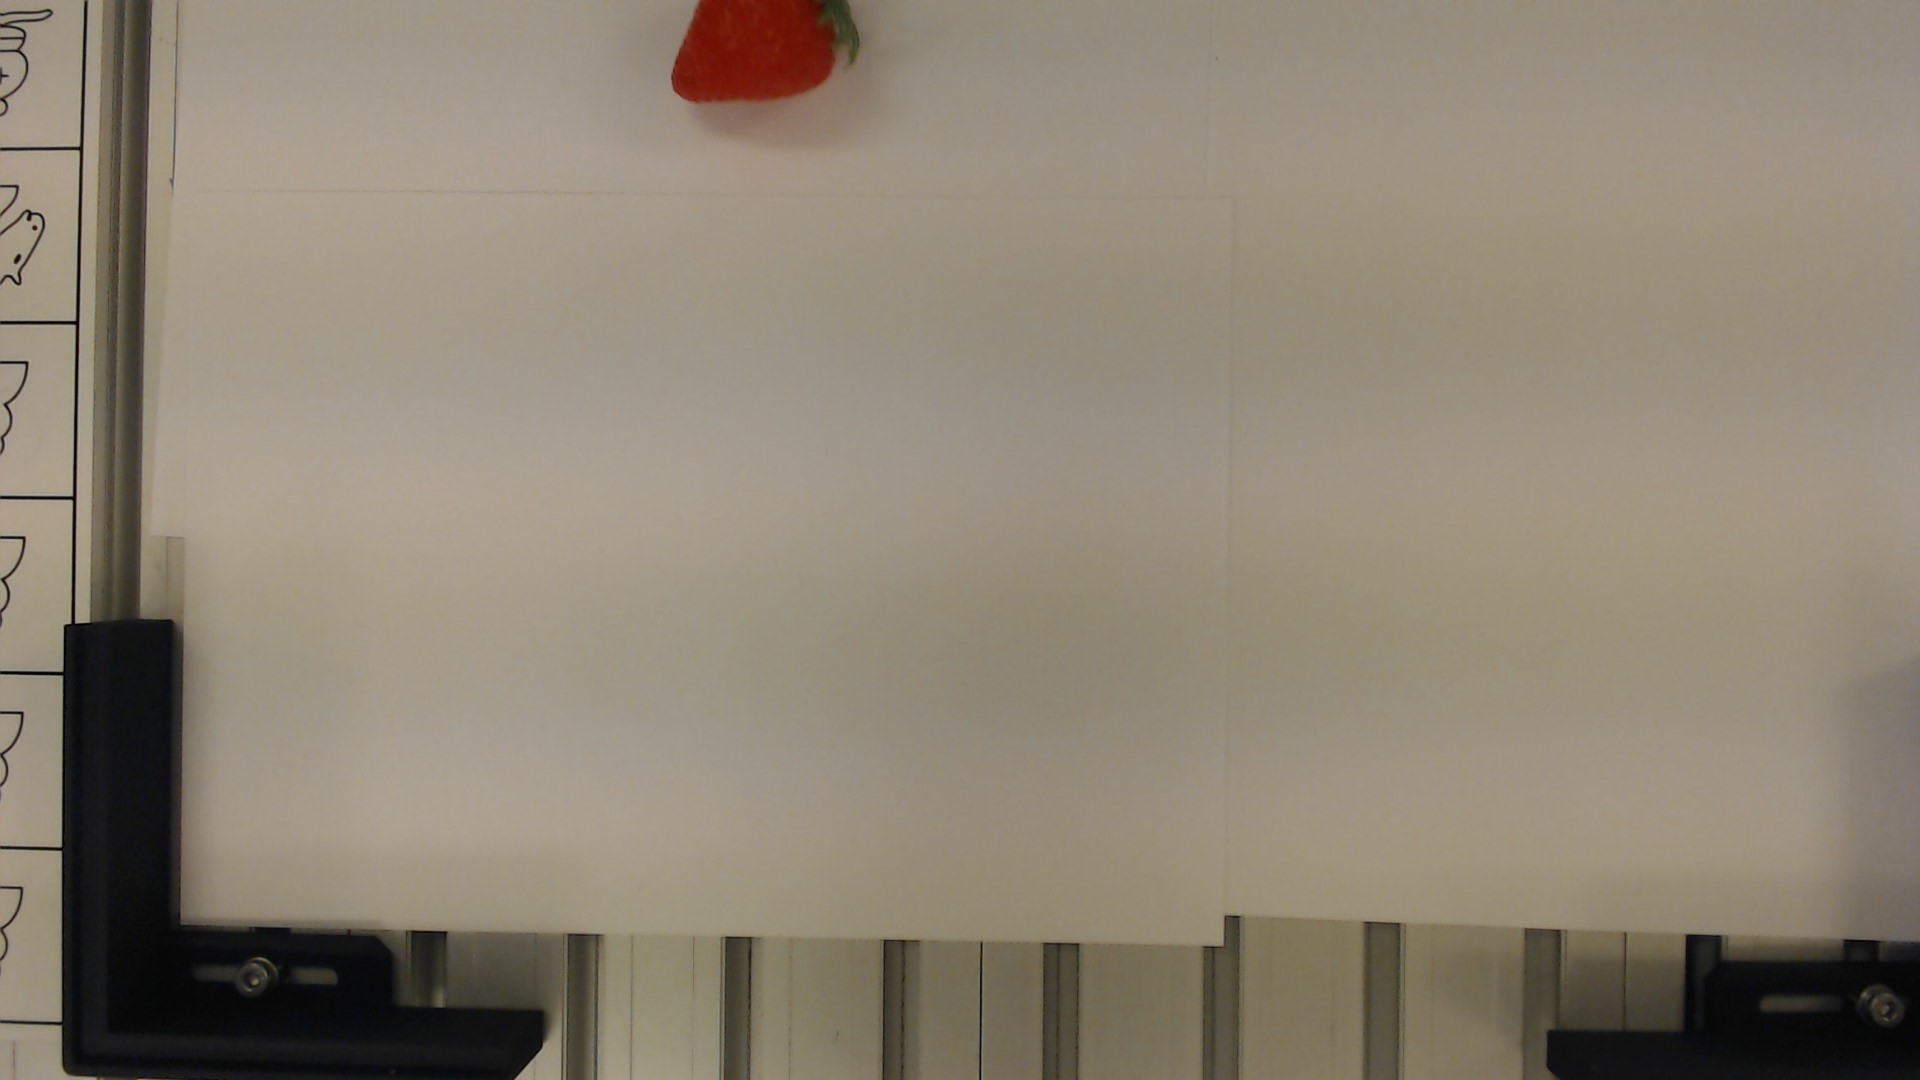Strawberry: (658, 3, 855, 103)
